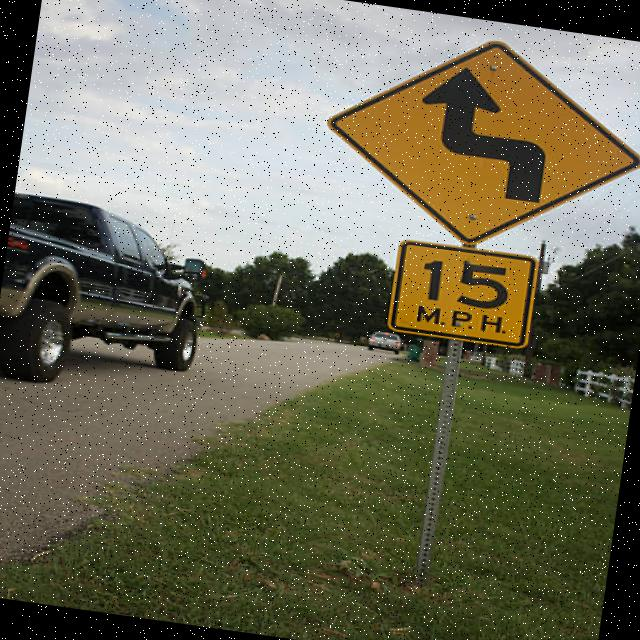left_sharp_curve: (289, 11, 640, 272)
